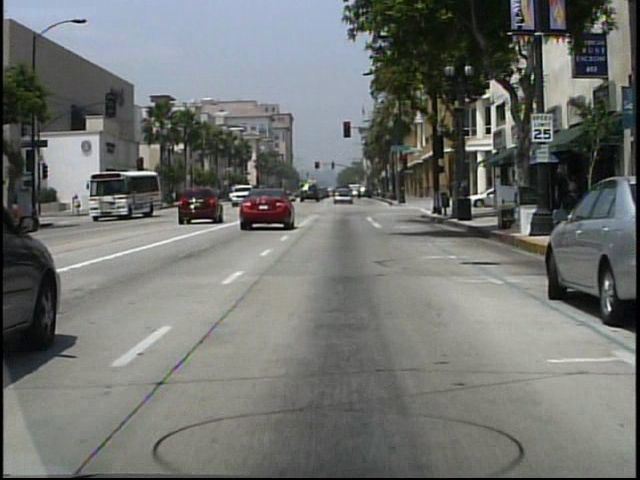person: (72, 194, 83, 215)
